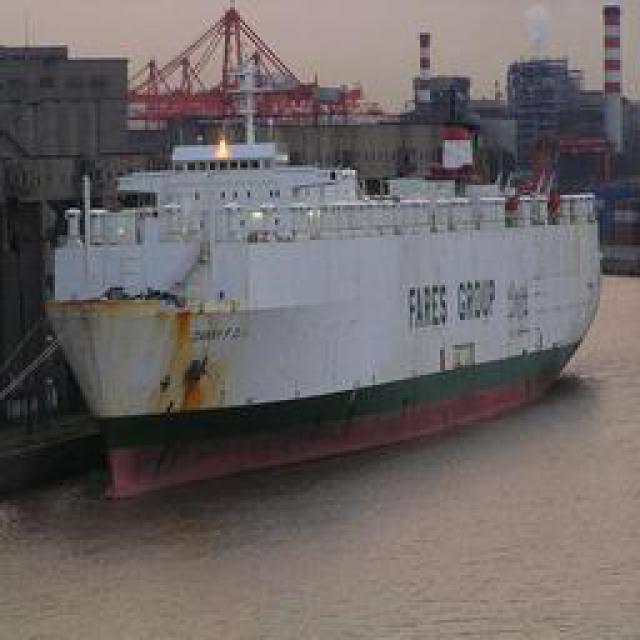Ship: (42, 87, 600, 527)
